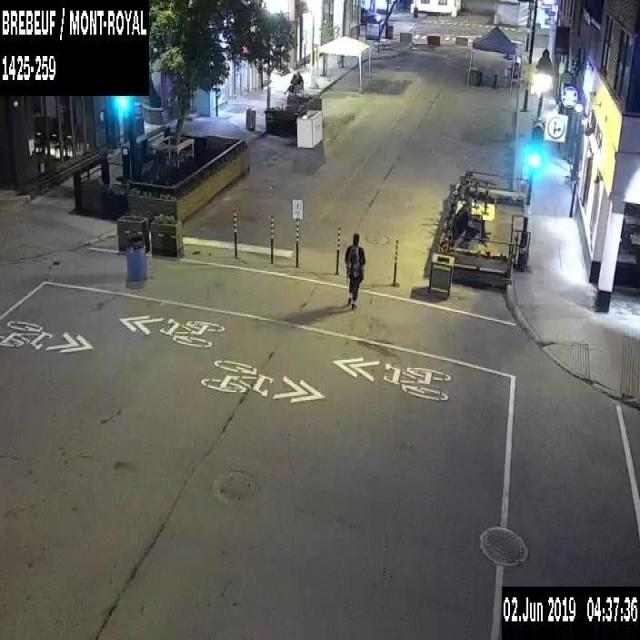pedestrian: (342, 233, 364, 311), (282, 71, 304, 93)
vehicle: (359, 4, 381, 23)
